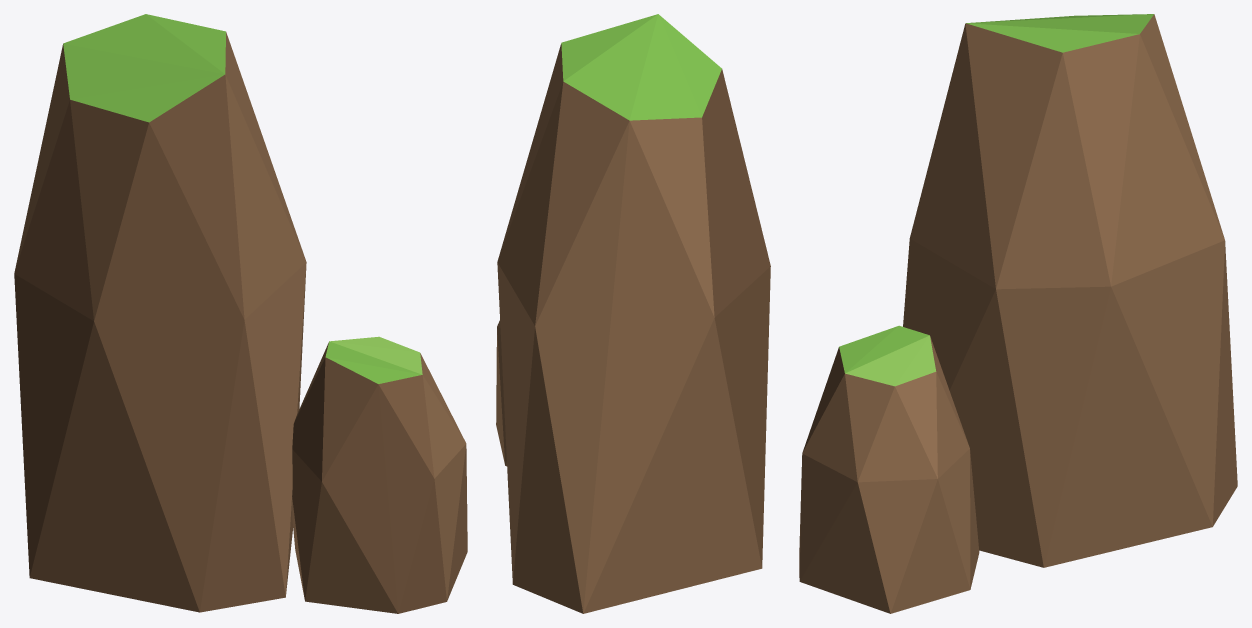
File: rock_tallH.glb
3 renders of one model, left to right at view 1: azimuth 30°, elevation 25°; view 2: azimuth 150°, elevation 25°; view 3: azimuth 270°, elevation 25°, orthographic. The views are drawn at different scales.
Parts seen in each view (by area): view 1: rock_tallH; view 2: rock_tallH; view 3: rock_tallH.
Part boxes in pixels (<box>): rock_tallH: <box>14,14,467,613</box>; rock_tallH: <box>496,14,770,613</box>; rock_tallH: <box>799,14,1237,613</box>.
Size of the model in its own units: 0.5249 by 0.7047 by 0.5688.
1 material, 1 textured.
